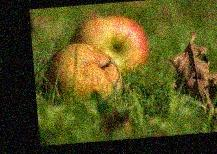rotten apple: (43, 43, 123, 95)
